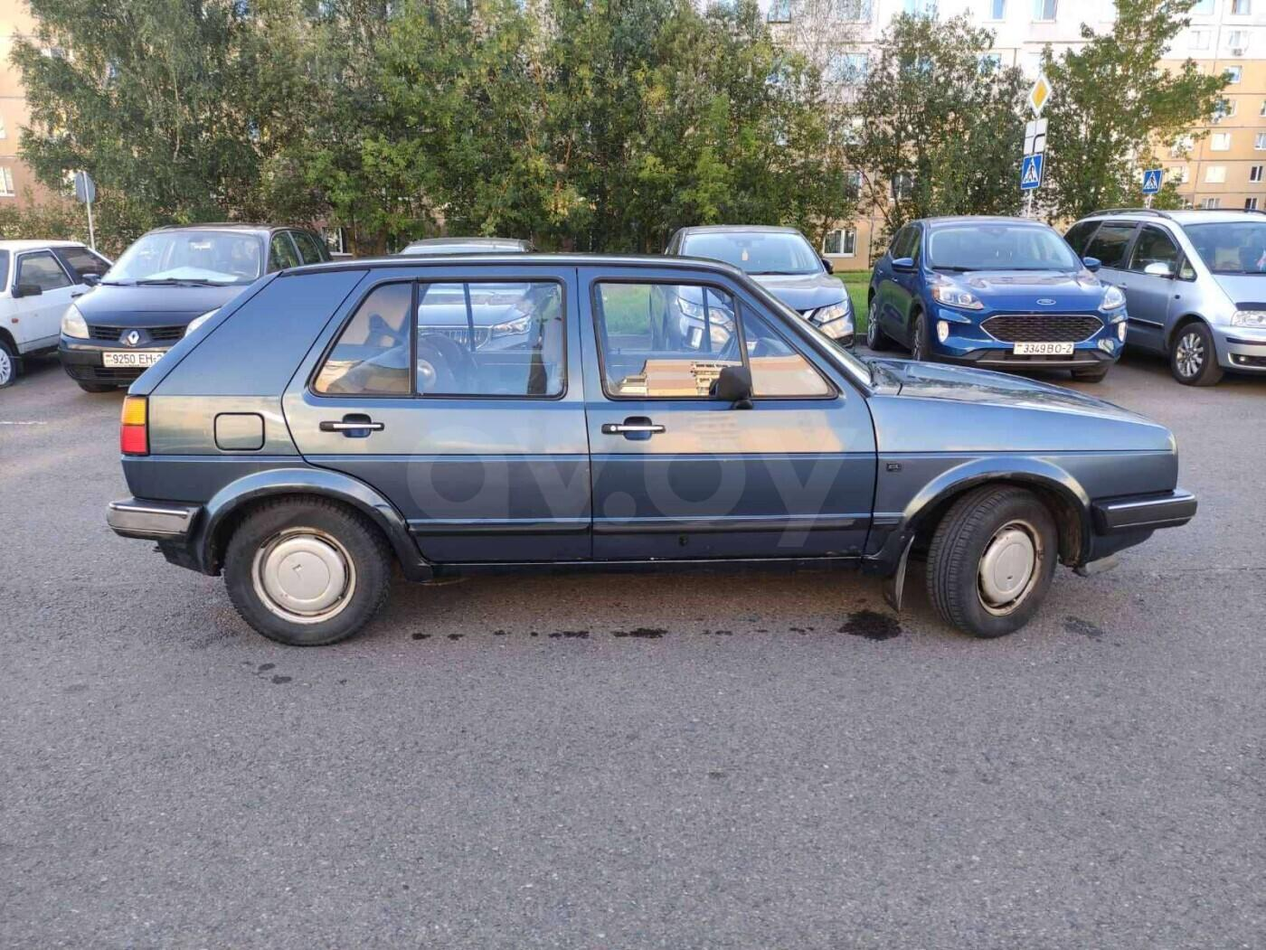Golf_1983-1992: (107, 248, 1195, 644)
